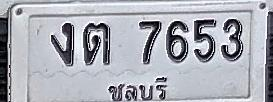3: (221, 18, 243, 61)
5: (194, 18, 216, 62)
6: (167, 20, 188, 63)
7: (139, 20, 162, 64)
A07: (50, 22, 74, 66)
A21: (83, 22, 111, 65)
CBI: (108, 75, 171, 102)
